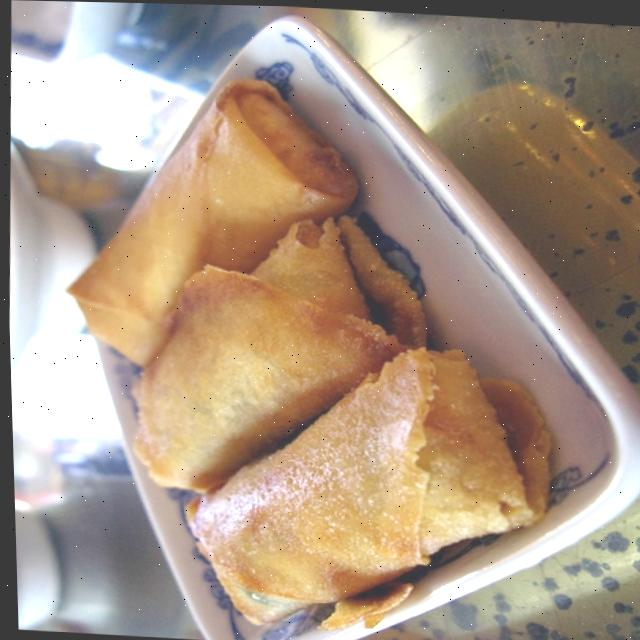炸货点心: (14, 56, 579, 640)
